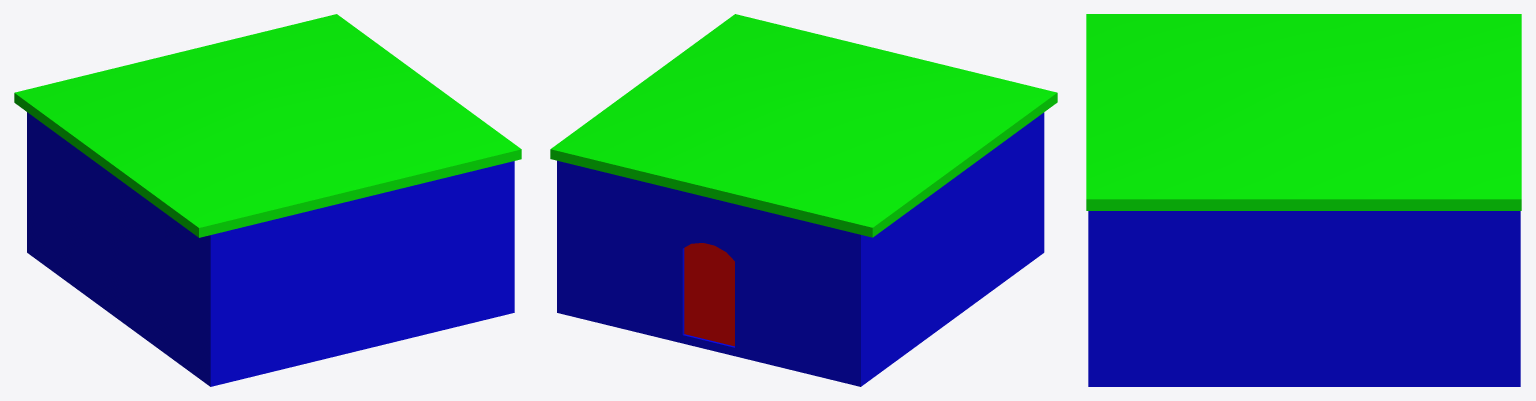
Rendered from tomb.fbx.
3 renders of one model, left to right at view 1: azimuth 30°, elevation 25°; view 2: azimuth 150°, elevation 25°; view 3: azimuth 270°, elevation 25°, orthographic. The views are drawn at different scales.
Parts seen in each view (by area): view 1: walls, roof; view 2: walls, roof, door; view 3: roof, walls.
Boxes of the visible parts, x1,y1,x2,y2 form: walls: (27, 112, 514, 386); roof: (14, 14, 521, 237); walls: (557, 112, 1044, 386); roof: (550, 14, 1057, 237); door: (684, 243, 734, 346); roof: (1086, 14, 1521, 210); walls: (1088, 211, 1520, 386).
Size of the model in its own units: 69.72 by 36.98 by 69.2.
